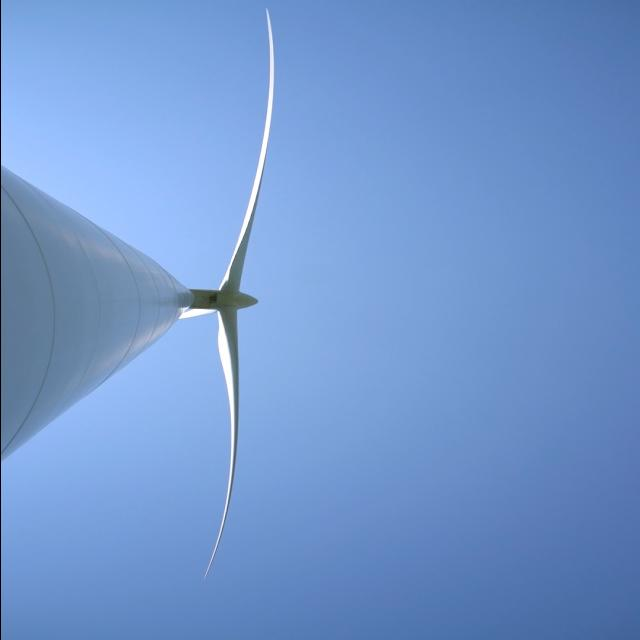blade 1: (179, 308, 215, 320)
blade 2: (226, 6, 286, 278)
blade 3: (175, 324, 253, 589)
